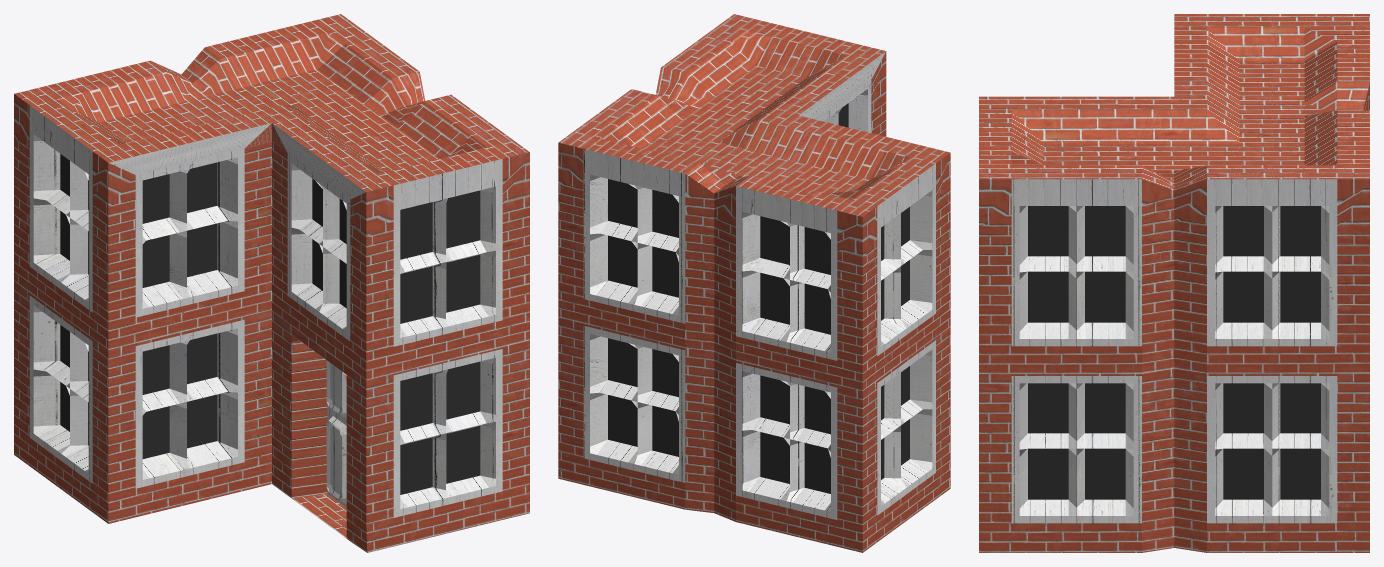
File: House_ver2.gltf
3 renders of one model, left to right at view 1: azimuth 30°, elevation 25°; view 2: azimuth 150°, elevation 25°; view 3: azimuth 270°, elevation 25°, orthographic. The views are drawn at different scales.
Visible parts, largest first — view 1: Cube; view 2: Cube; view 3: Cube.
Part boxes in pixels (x1,y1,x2,y2): Cube: (14,14,529,552); Cube: (558,14,950,552); Cube: (979,14,1369,552).
Bounding box in the file's own units: 2.5 × 2.64 × 2.5.
3 materials, 2 textured.
